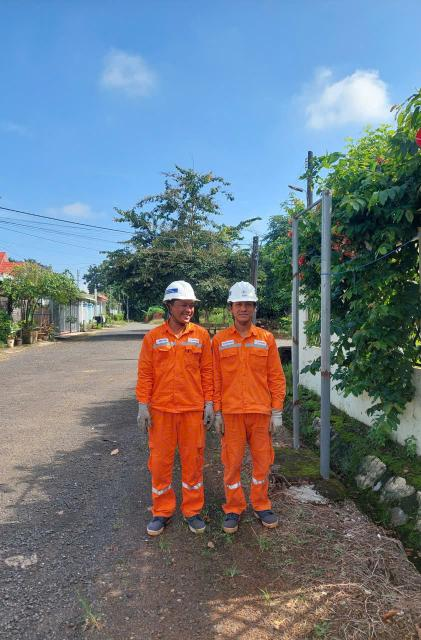gloves: (124, 398, 158, 435), (259, 408, 288, 437), (197, 406, 221, 435), (212, 410, 229, 440)
helmet: (222, 280, 266, 306), (161, 282, 205, 305)
shoes: (146, 508, 176, 538), (253, 506, 281, 532), (181, 509, 207, 536), (222, 510, 240, 534)
